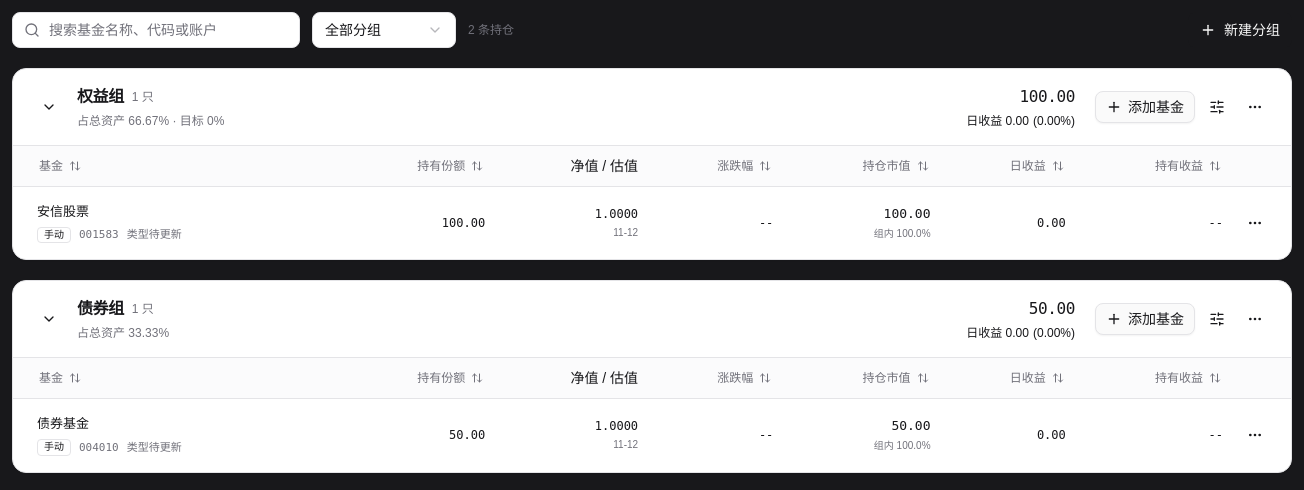
Test: 搜索只展示匹配分组，不把被过滤的持仓说成空分组
Type "001583" into the field named "搜索持仓".
click(156, 30); type("001583")  # box [12, 12, 300, 48]
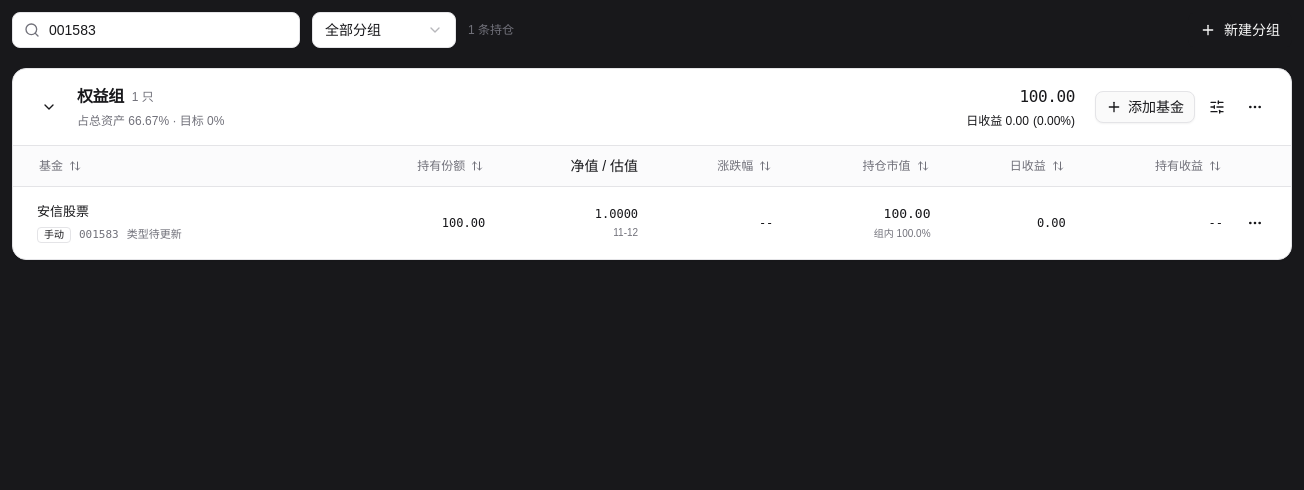
Expected: the heading "权益组" is shown, [77, 85, 124, 109]
Result: the heading "债券组" is gone
